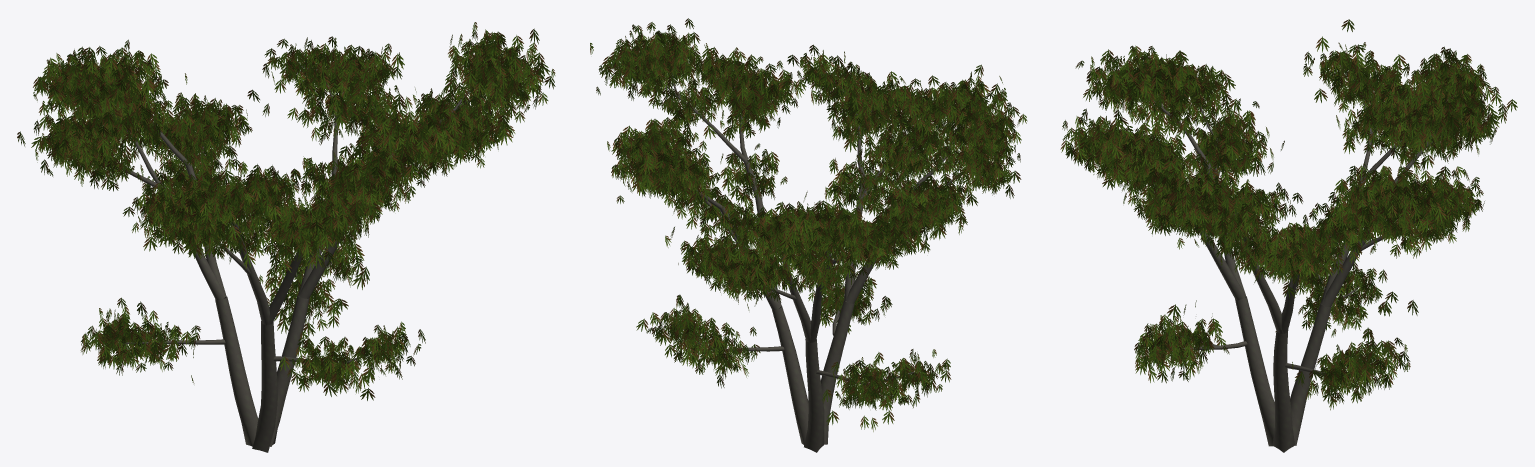
File: MangoTree1.glb
3 views of the same model, side by side, from view 1: azimuth 30°, elevation 25°; view 2: azimuth 150°, elevation 25°; view 3: azimuth 270°, elevation 25° (orthographic). The views are drawn at different scales.
Parts seen in each view (by area): view 1: MangoTree_C_Leaves, MangoTree_C_Bark; view 2: MangoTree_C_Leaves, MangoTree_C_Bark; view 3: MangoTree_C_Leaves, MangoTree_C_Bark.
Part boxes in pixels (x1=…): MangoTree_C_Leaves: x1=17, y1=22, x2=555, y2=400; MangoTree_C_Bark: x1=68, y1=60, x2=485, y2=452; MangoTree_C_Leaves: x1=590, y1=18, x2=1027, y2=431; MangoTree_C_Bark: x1=643, y1=70, x2=972, y2=452; MangoTree_C_Leaves: x1=1060, y1=19, x2=1517, y2=410; MangoTree_C_Bark: x1=1153, y1=66, x2=1461, y2=452.
Bounding box in the file's own units: 12.53 × 10.09 × 11.4.
2 materials, 2 textured.
